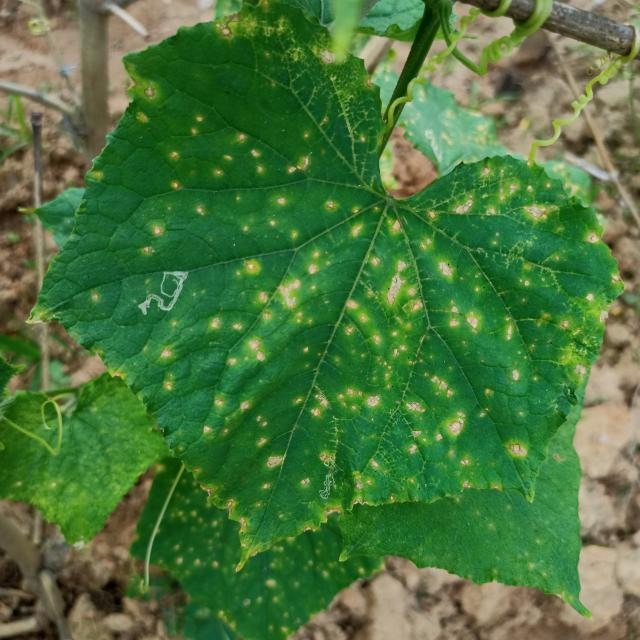disease_cucumber: (84, 61, 586, 522)
